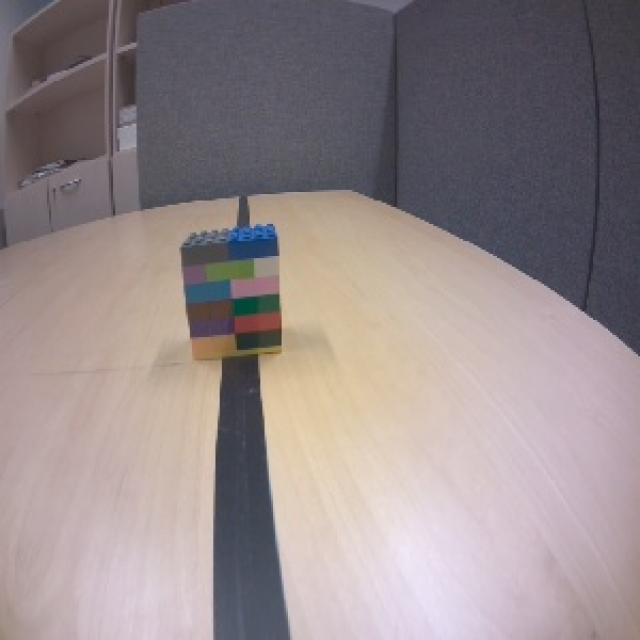obstacle: (177, 220, 286, 363)
